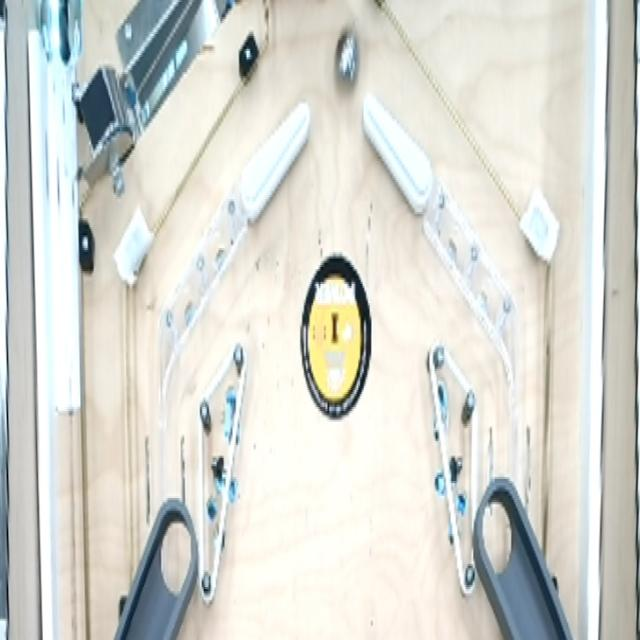ball: (334, 22, 361, 90)
flipper-left: (358, 86, 436, 221)
flipper-right: (238, 94, 314, 228)
